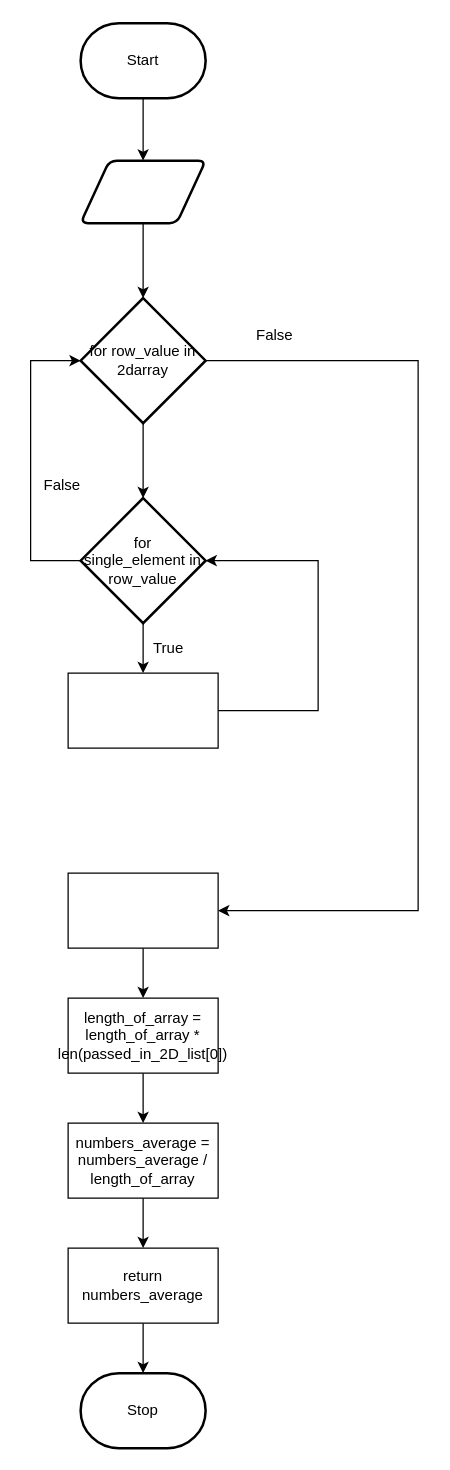
This 450x1470 diagram has some shape labels left out. The shapes that lost their labels are listed below. From the top down, each one's centre as x and y in pixels, then its label:
At pixel 142 191: "Get 2darray".
At pixel 142 710: "number_average = number_average + single_element".
At pixel 142 910: "length_of_array = len(passed_in_2D_list)".
